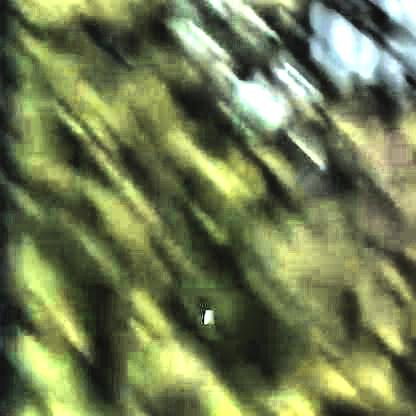golfball: (201, 305, 212, 321)
